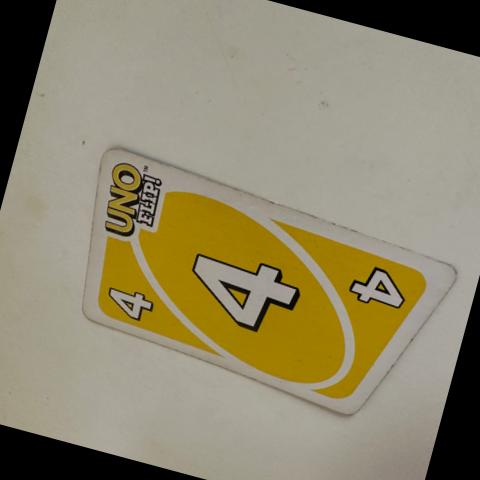lyellow-4: (89, 272, 167, 331)
